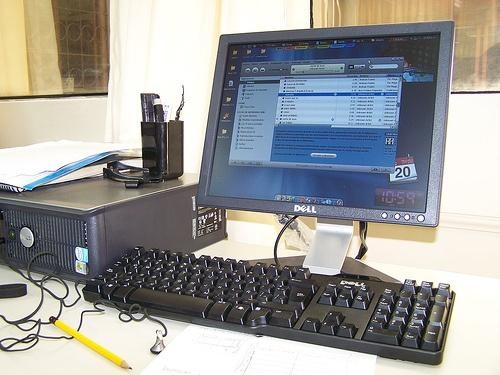tvmonitor: (196, 18, 456, 275)
